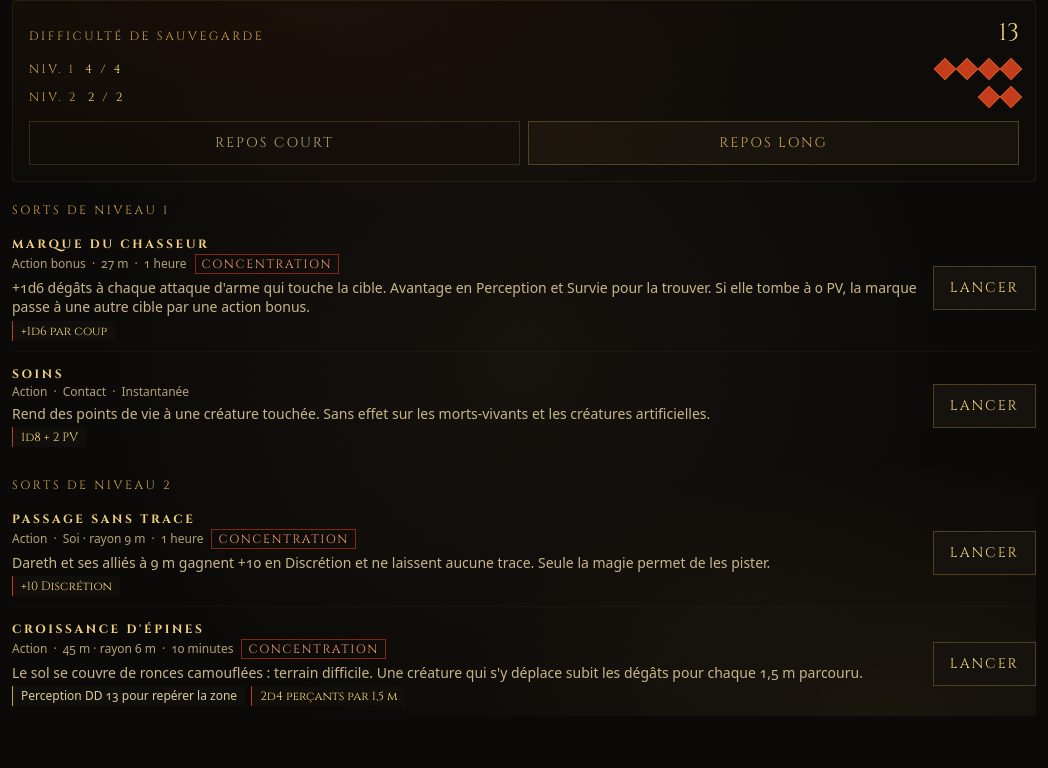
Test: CodexSpells › épuise le niveau 1 puis lance le sort de niveau 1 avec un emplacement de niveau 2
The width and height of the screenshot is (1048, 768).
Step 1. Click the button "Lancer" in the row of "27 m" → (984, 288), box [933,266,1036,310]
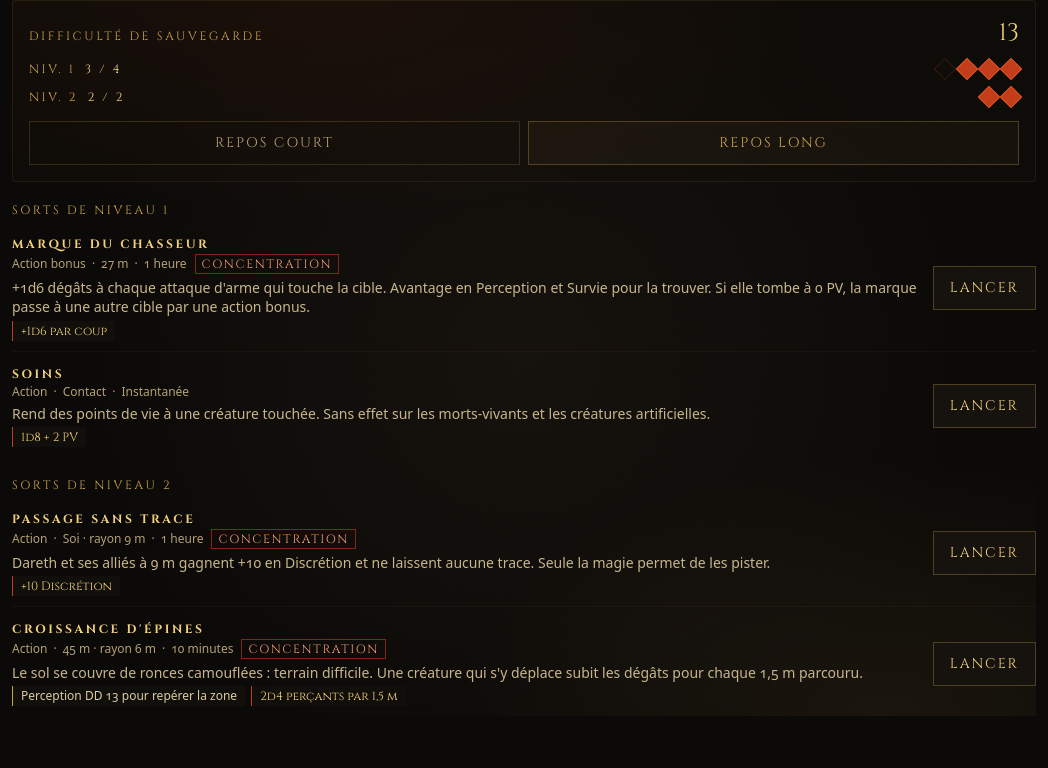
Step 2. Click the button "Lancer" in the row of "27 m" → (984, 288), box [933,266,1036,310]
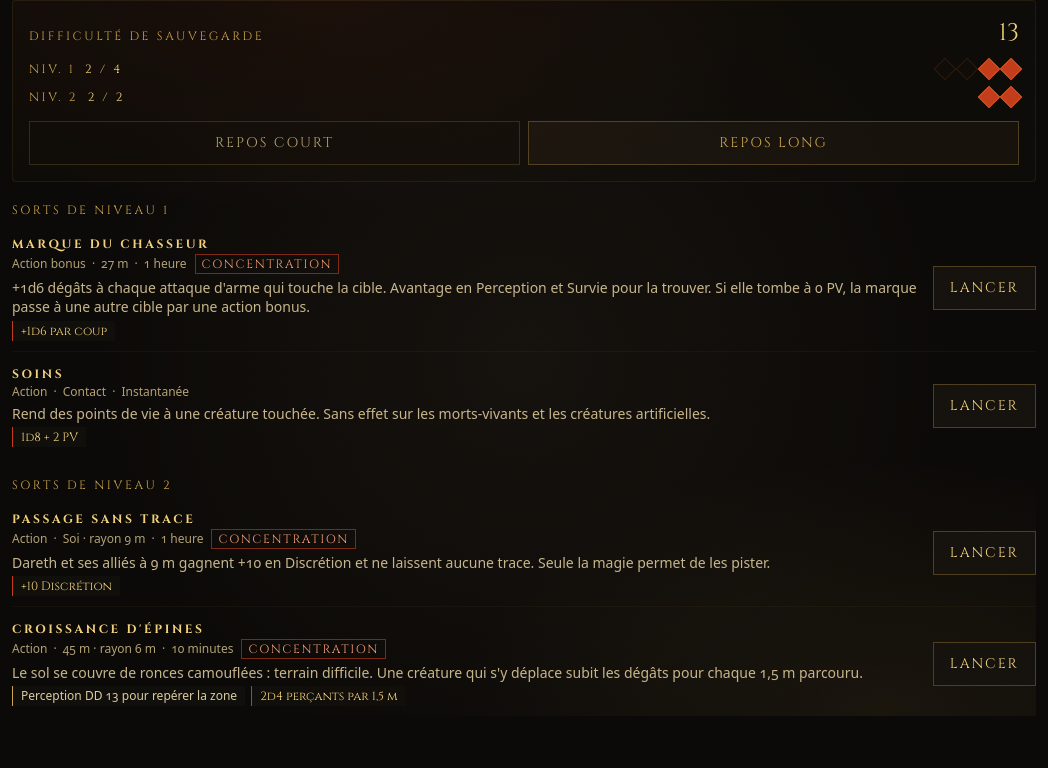
Step 3. Click the button "Lancer" in the row of "27 m" → (984, 288), box [933,266,1036,310]
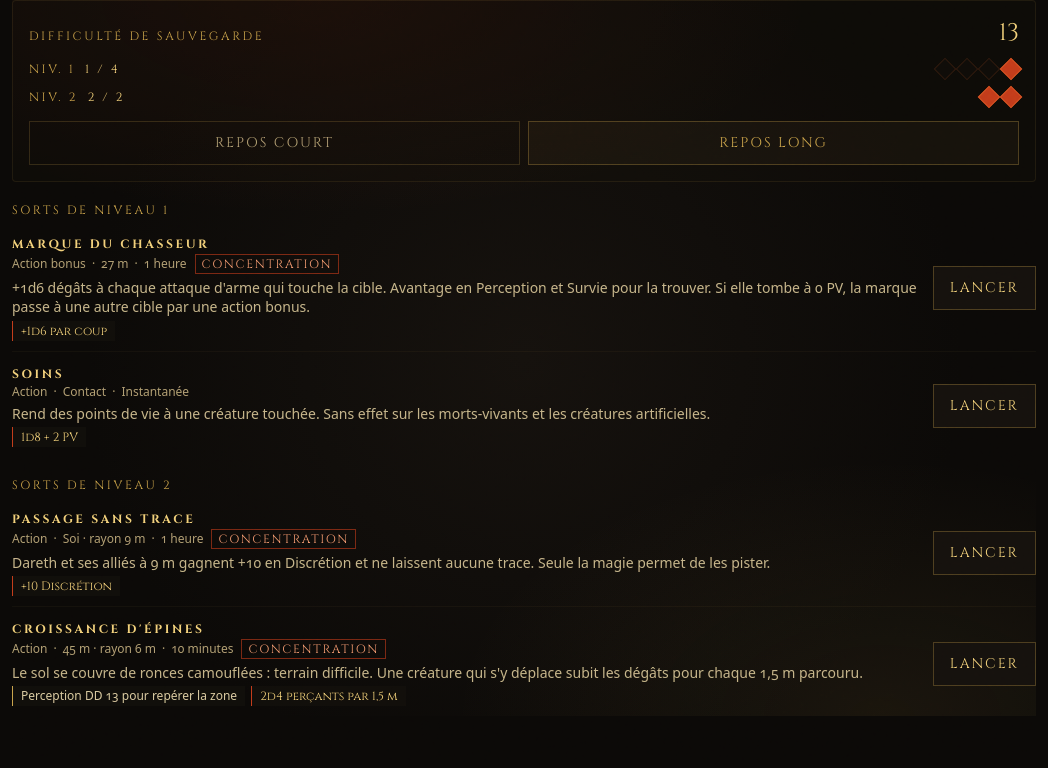
Step 4. Click the button "Lancer" in the row of "27 m" → (984, 288), box [933,266,1036,310]
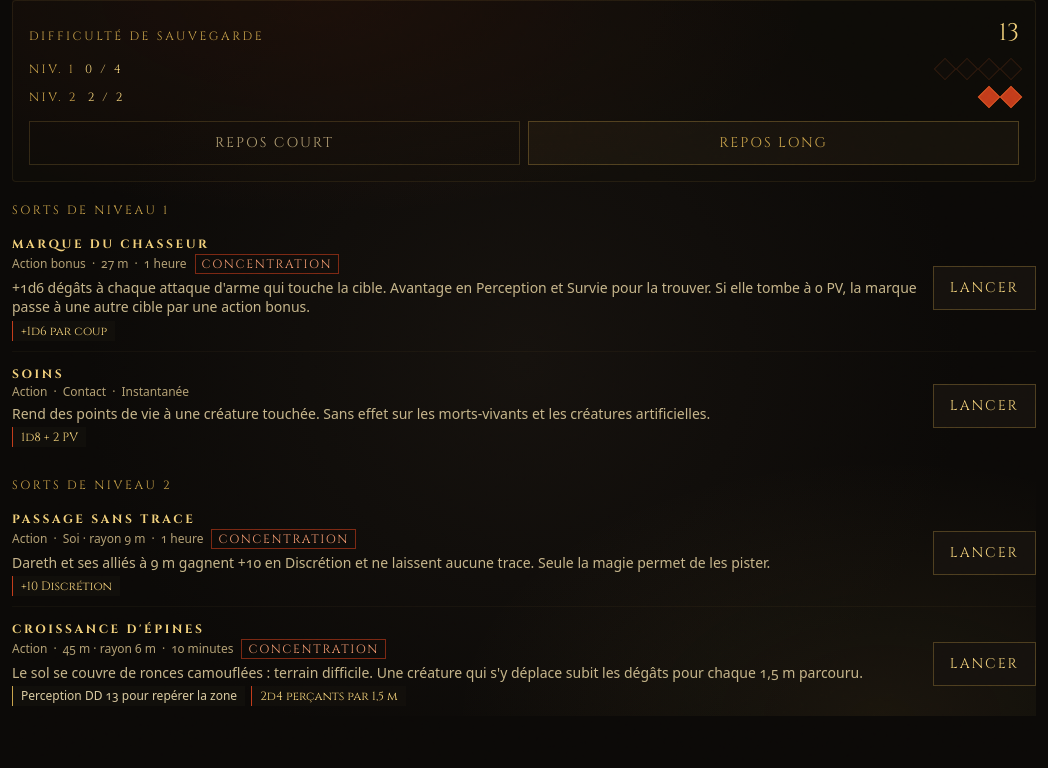
Expected: the text with id "slots-count-2" reads "2 / 2", [88,89,125,105]
Expected: the text with id "slots-count-1" reads "0 / 4", [85,61,123,77]
Step 5. Click the button "Lancer" in the row of "27 m" → (984, 288), box [933,266,1036,310]
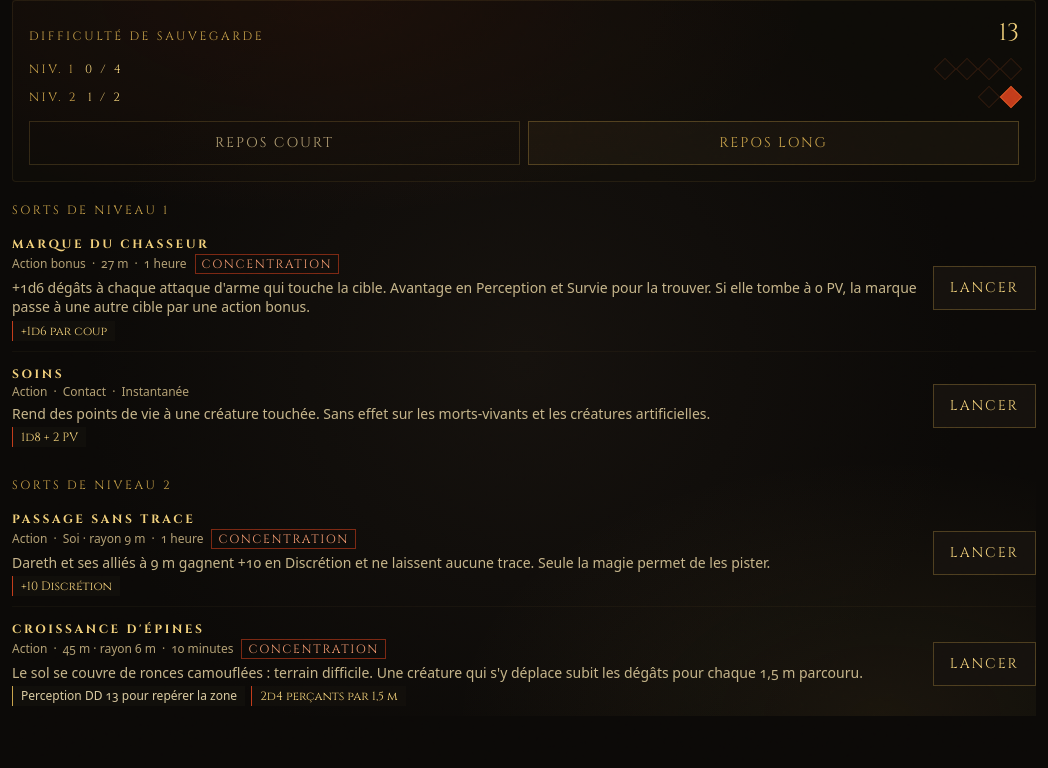
Expected: the text with id "slots-count-2" reads "1 / 2", [88,89,122,105]
